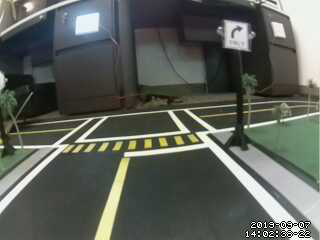Right_only_sign: (223, 17, 251, 55)
